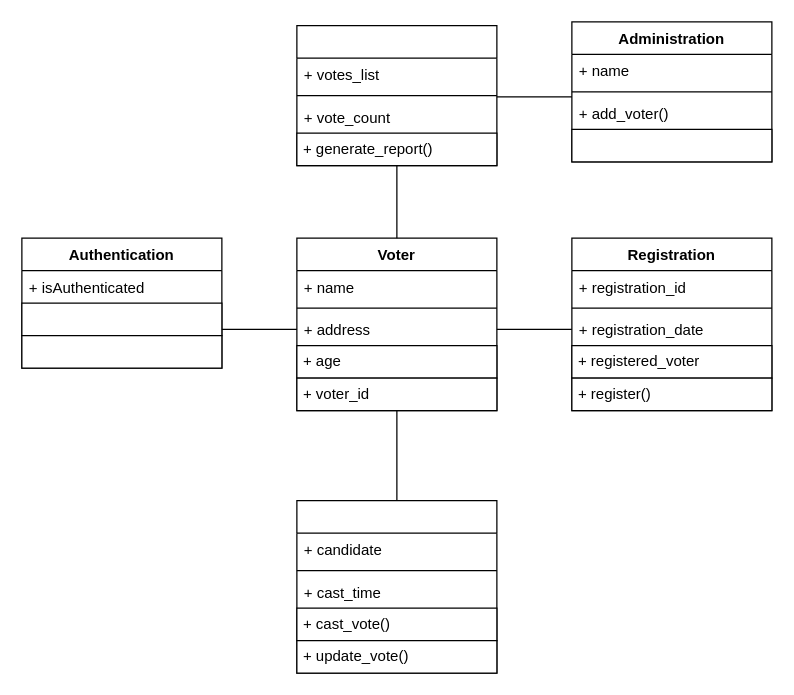
Image size: 794x695. Some labels were removed from this diagram. The box of each missing label's shape, as (x1, y1, x2, y2) in pixels:
+ authenticate(): (21, 302, 222, 336)
+ reject(): (21, 334, 222, 368)
+ request_report(): (571, 128, 772, 162)
Vote Casting: (296, 499, 497, 673)
Vote Report: (296, 24, 497, 166)
